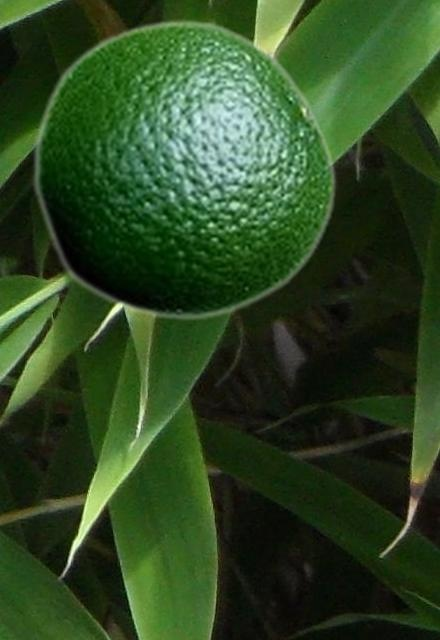calamansi: (31, 18, 337, 321)
